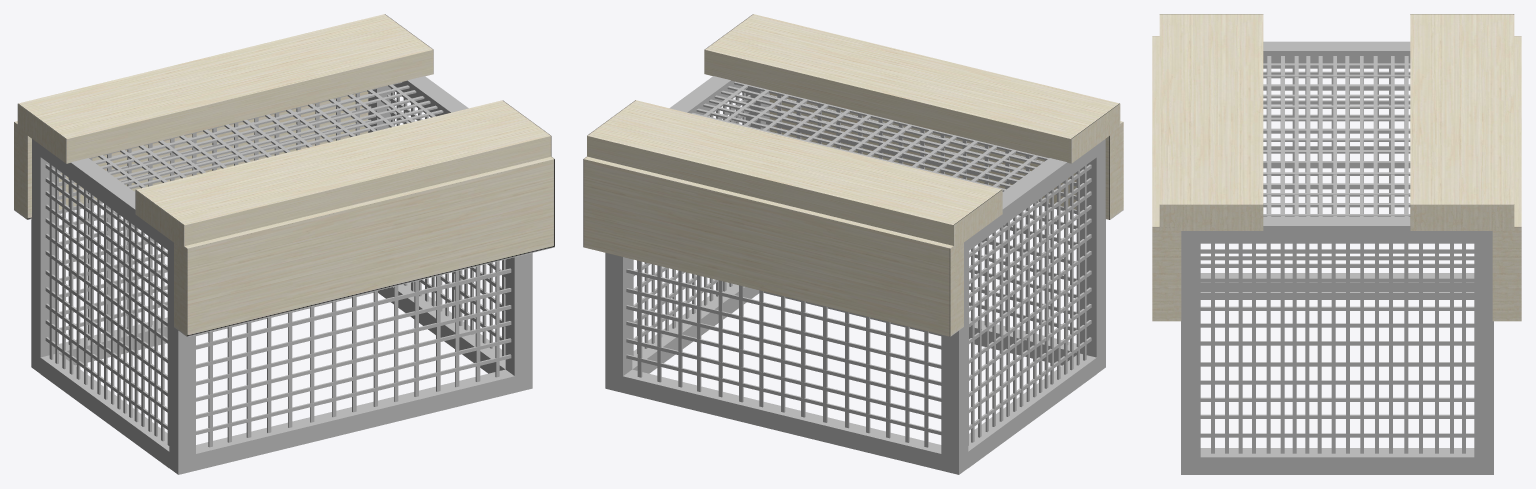
The model's file is cage bench.fbx.
The picture shows the model from 3 angles, left to right: view 1: azimuth 30°, elevation 25°; view 2: azimuth 150°, elevation 25°; view 3: azimuth 270°, elevation 25°; orthographic projection. The views are drawn at different scales.
Visible parts, largest first — view 1: cagecharibane:cageBench_4_, pCube12, pCube9, pCube10, pCube11; view 2: cagecharibane:cageBench_4_, pCube11, pCube10, pCube9, pCube12; view 3: cagecharibane:cageBench_4_, pCube9, pCube10, pCube11, pCube12.
Part boxes in pixels (x1,y1,x2,y2): cagecharibane:cageBench_4_: [31, 76, 532, 474]; pCube12: [174, 156, 554, 336]; pCube9: [17, 14, 433, 163]; pCube10: [135, 100, 551, 249]; pCube11: [14, 91, 394, 219]; cagecharibane:cageBench_4_: [605, 76, 1105, 474]; pCube11: [583, 156, 963, 336]; pCube10: [704, 14, 1120, 163]; pCube9: [587, 100, 1002, 249]; pCube12: [769, 93, 1123, 219]; cagecharibane:cageBench_4_: [1181, 41, 1493, 474]; pCube9: [1410, 14, 1514, 230]; pCube10: [1159, 14, 1263, 230]; pCube11: [1492, 36, 1521, 321]; pCube12: [1152, 36, 1181, 321].
Bounding box in the file's own units: 129 × 86.71 × 106.
